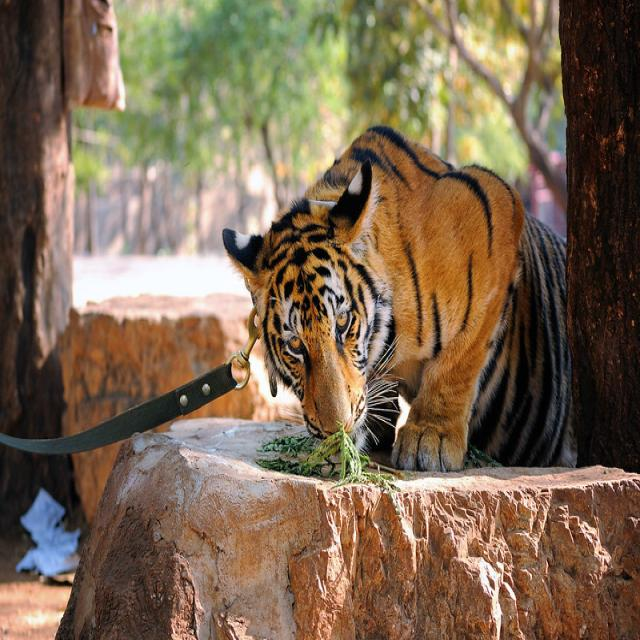Tiger: (222, 118, 582, 474)
